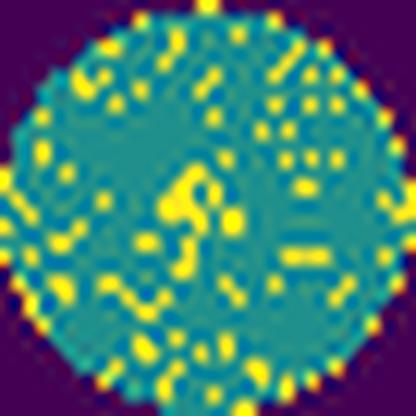Center: (152, 156, 254, 278)
